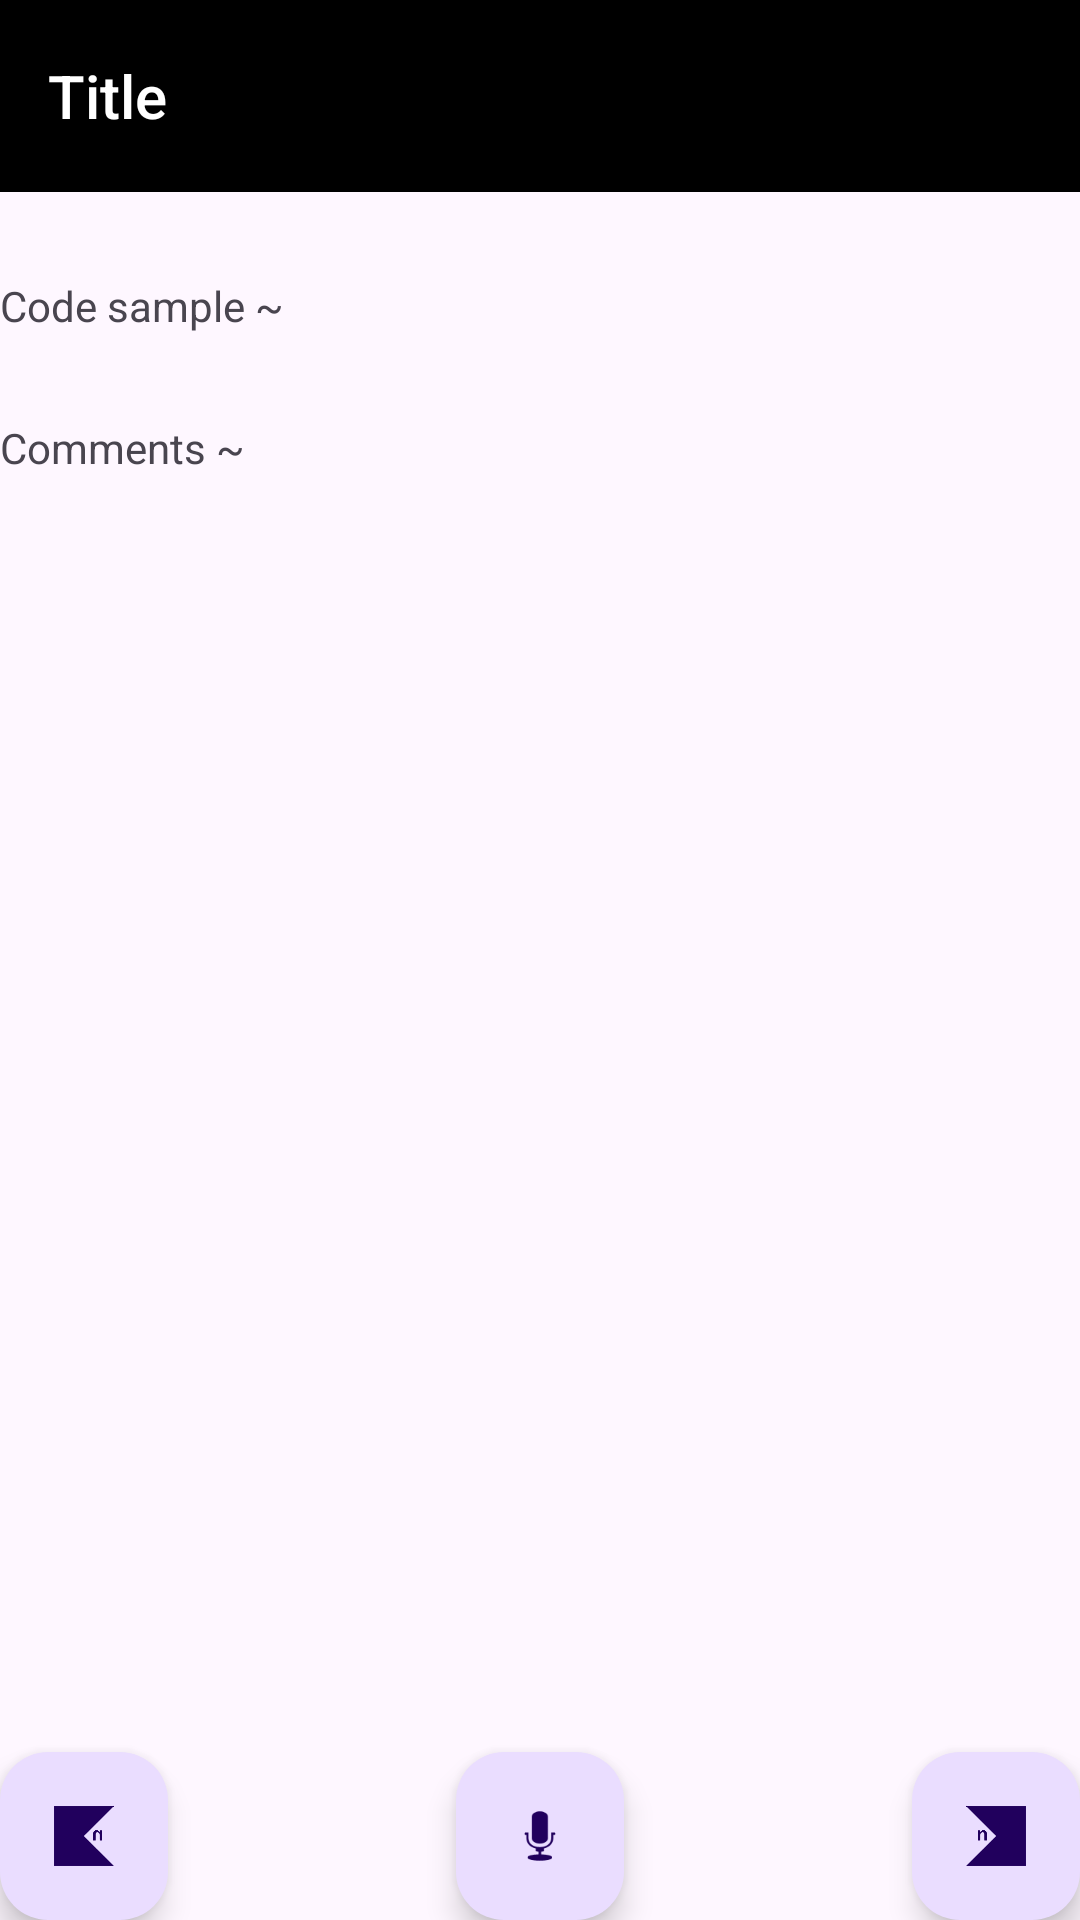

Locate icon controls on the screen. Image size 1080w x 1920h, boxes as [x1, y1, x2, y2].
speak now: [456, 1752, 624, 1920]
